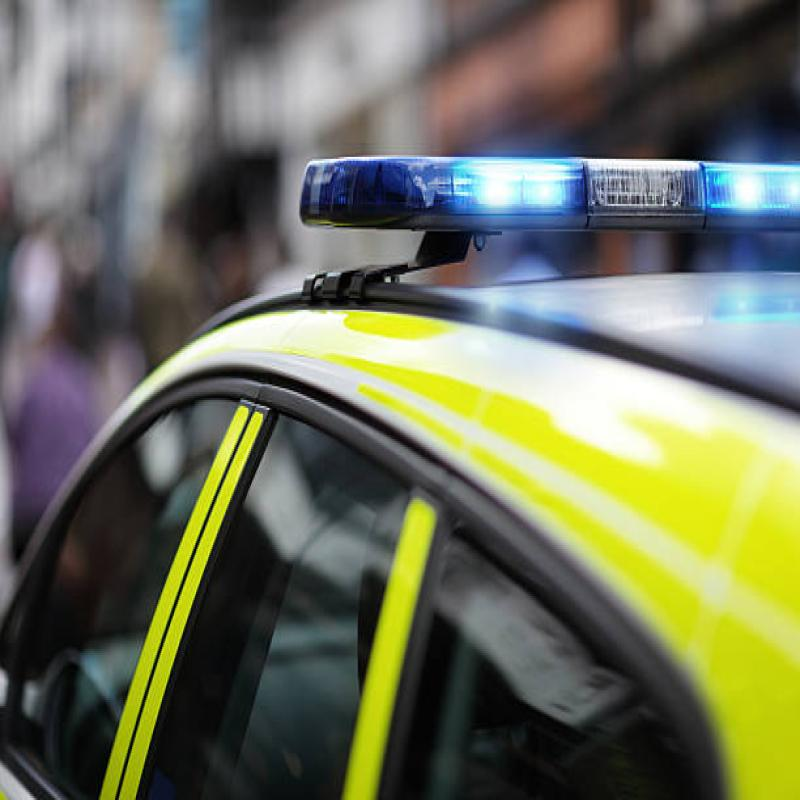AmbulanceSiren: (288, 70, 800, 258)
